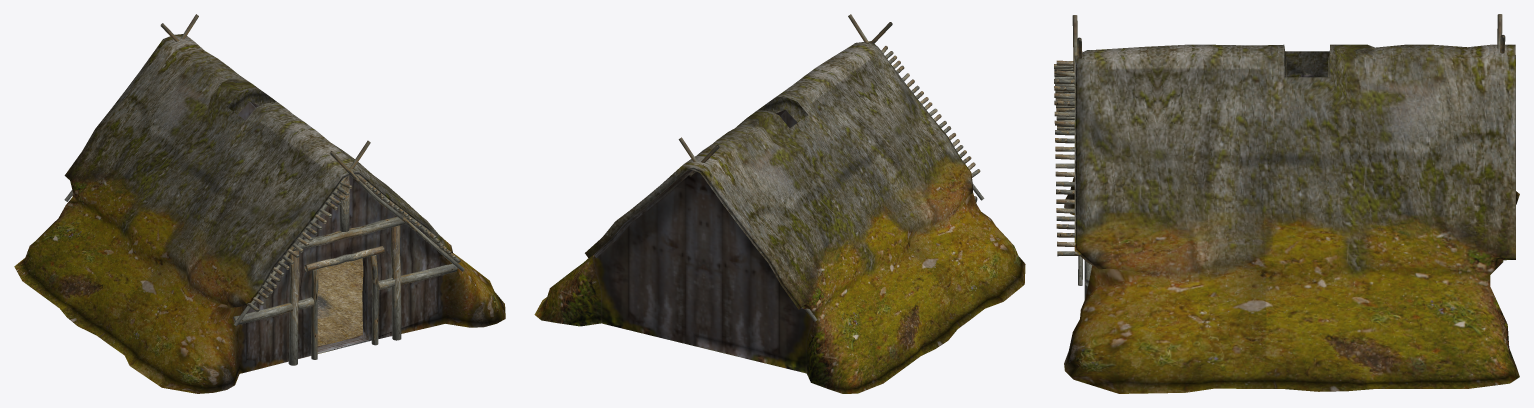
Rendered from OldBuilding3.fbx.
3 renders of one model, left to right at view 1: azimuth 30°, elevation 25°; view 2: azimuth 150°, elevation 25°; view 3: azimuth 270°, elevation 25°, orthographic. The views are drawn at different scales.
Parts seen in each view (by area): view 1: vi_building5, vi5_int; view 2: vi_building5, vi5_int; view 3: vi_building5, vi5_int.
Part boxes in pixels (x1=…): vi_building5: x1=14, y1=14, x2=505, y2=393; vi5_int: x1=227, y1=89, x2=363, y2=346; vi_building5: x1=534, y1=14, x2=1025, y2=393; vi5_int: x1=755, y1=96, x2=807, y2=127; vi_building5: x1=1054, y1=14, x2=1519, y2=393; vi5_int: x1=1284, y1=46, x2=1330, y2=77.
Size of the model in its own units: 993 by 574 by 912.
4 materials, 4 textured.
